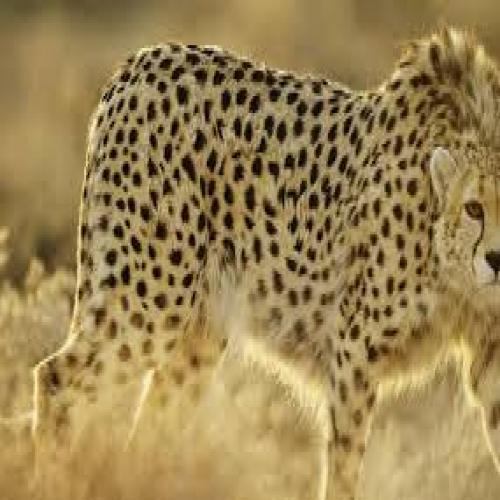cheetah-endangered: (35, 31, 499, 495)
